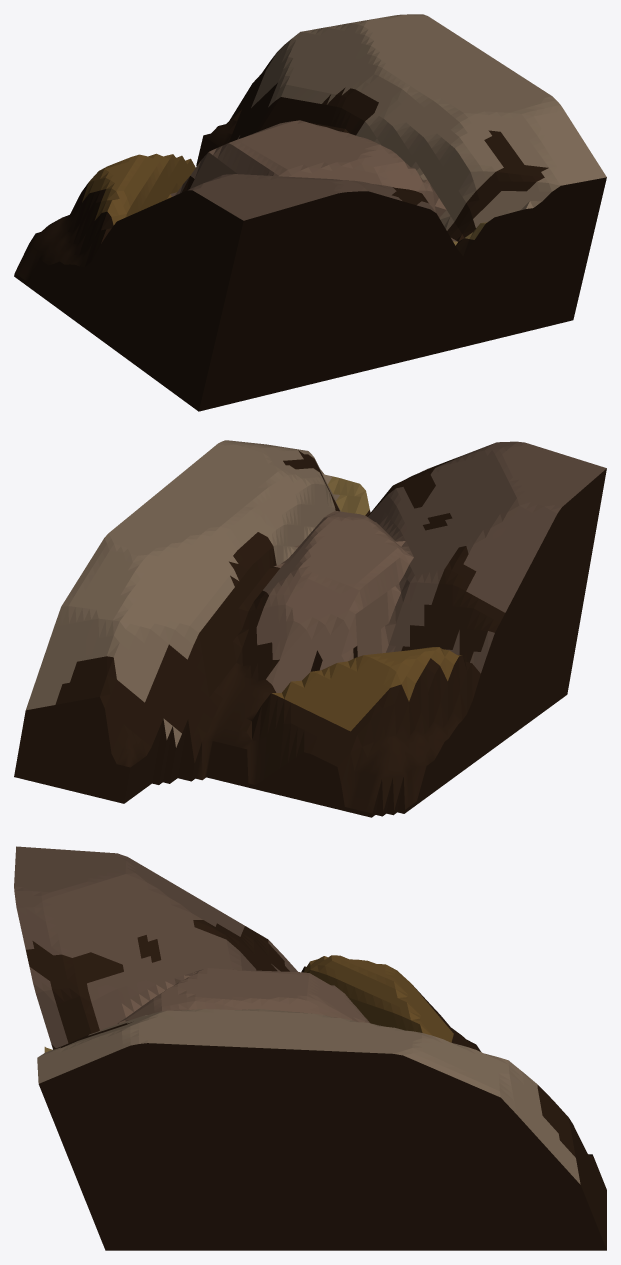
The model's file is ixm_cover_155.glb.
3 renders of one model, top to bottom at view 1: azimuth 30°, elevation 25°; view 2: azimuth 150°, elevation 25°; view 3: azimuth 270°, elevation 25°, orthographic. The views are drawn at different scales.
Parts seen in each view (by area): view 1: ixm_cover_155; view 2: ixm_cover_155; view 3: ixm_cover_155.
Boxes of the visible parts, bbox=[...] form: ixm_cover_155: bbox=[14, 14, 606, 411]; ixm_cover_155: bbox=[14, 440, 606, 817]; ixm_cover_155: bbox=[14, 846, 606, 1250].
Bounding box in the file's own units: 24 × 14.03 × 33.11.
